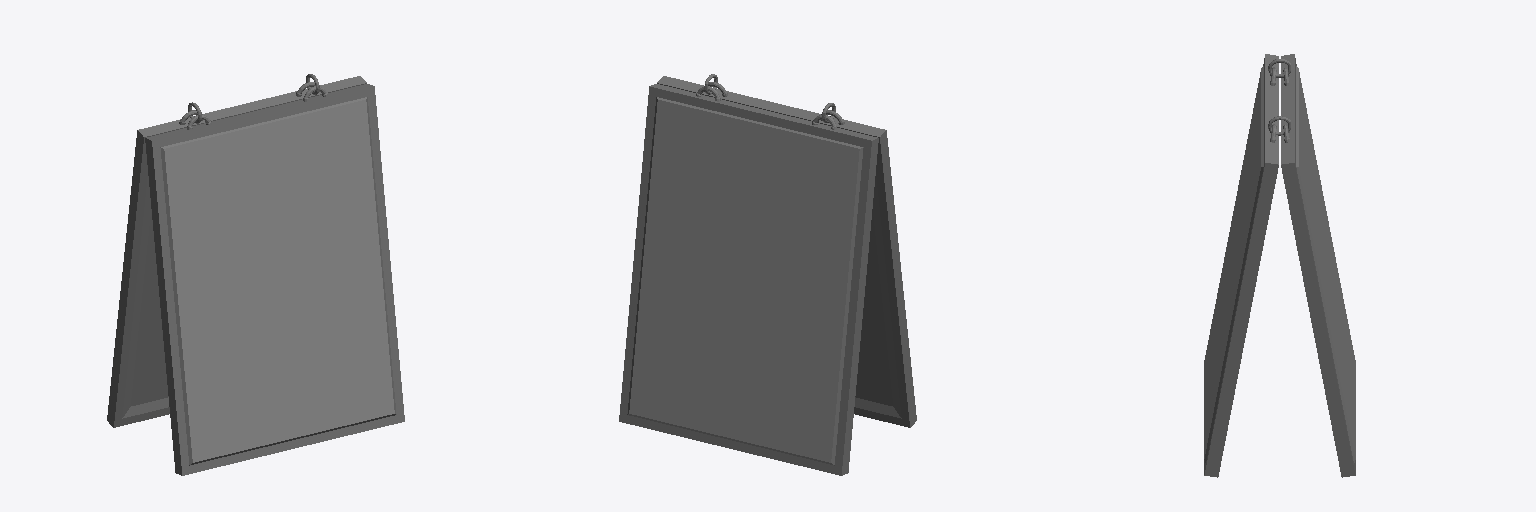
The model's file is chalkboard.obj.
3 renders of one model, left to right at view 1: azimuth 30°, elevation 25°; view 2: azimuth 150°, elevation 25°; view 3: azimuth 270°, elevation 25°, orthographic.
Parts seen in each view (by area): view 1: Object50_Object50; view 2: Object50_Object50; view 3: Object50_Object50.
Part boxes in pixels (x1,y1,x2,y2): Object50_Object50: (107,74,404,475); Object50_Object50: (619,74,916,475); Object50_Object50: (1204,54,1355,477).
Size of the model in its own units: 53.59 by 76.99 by 31.55.